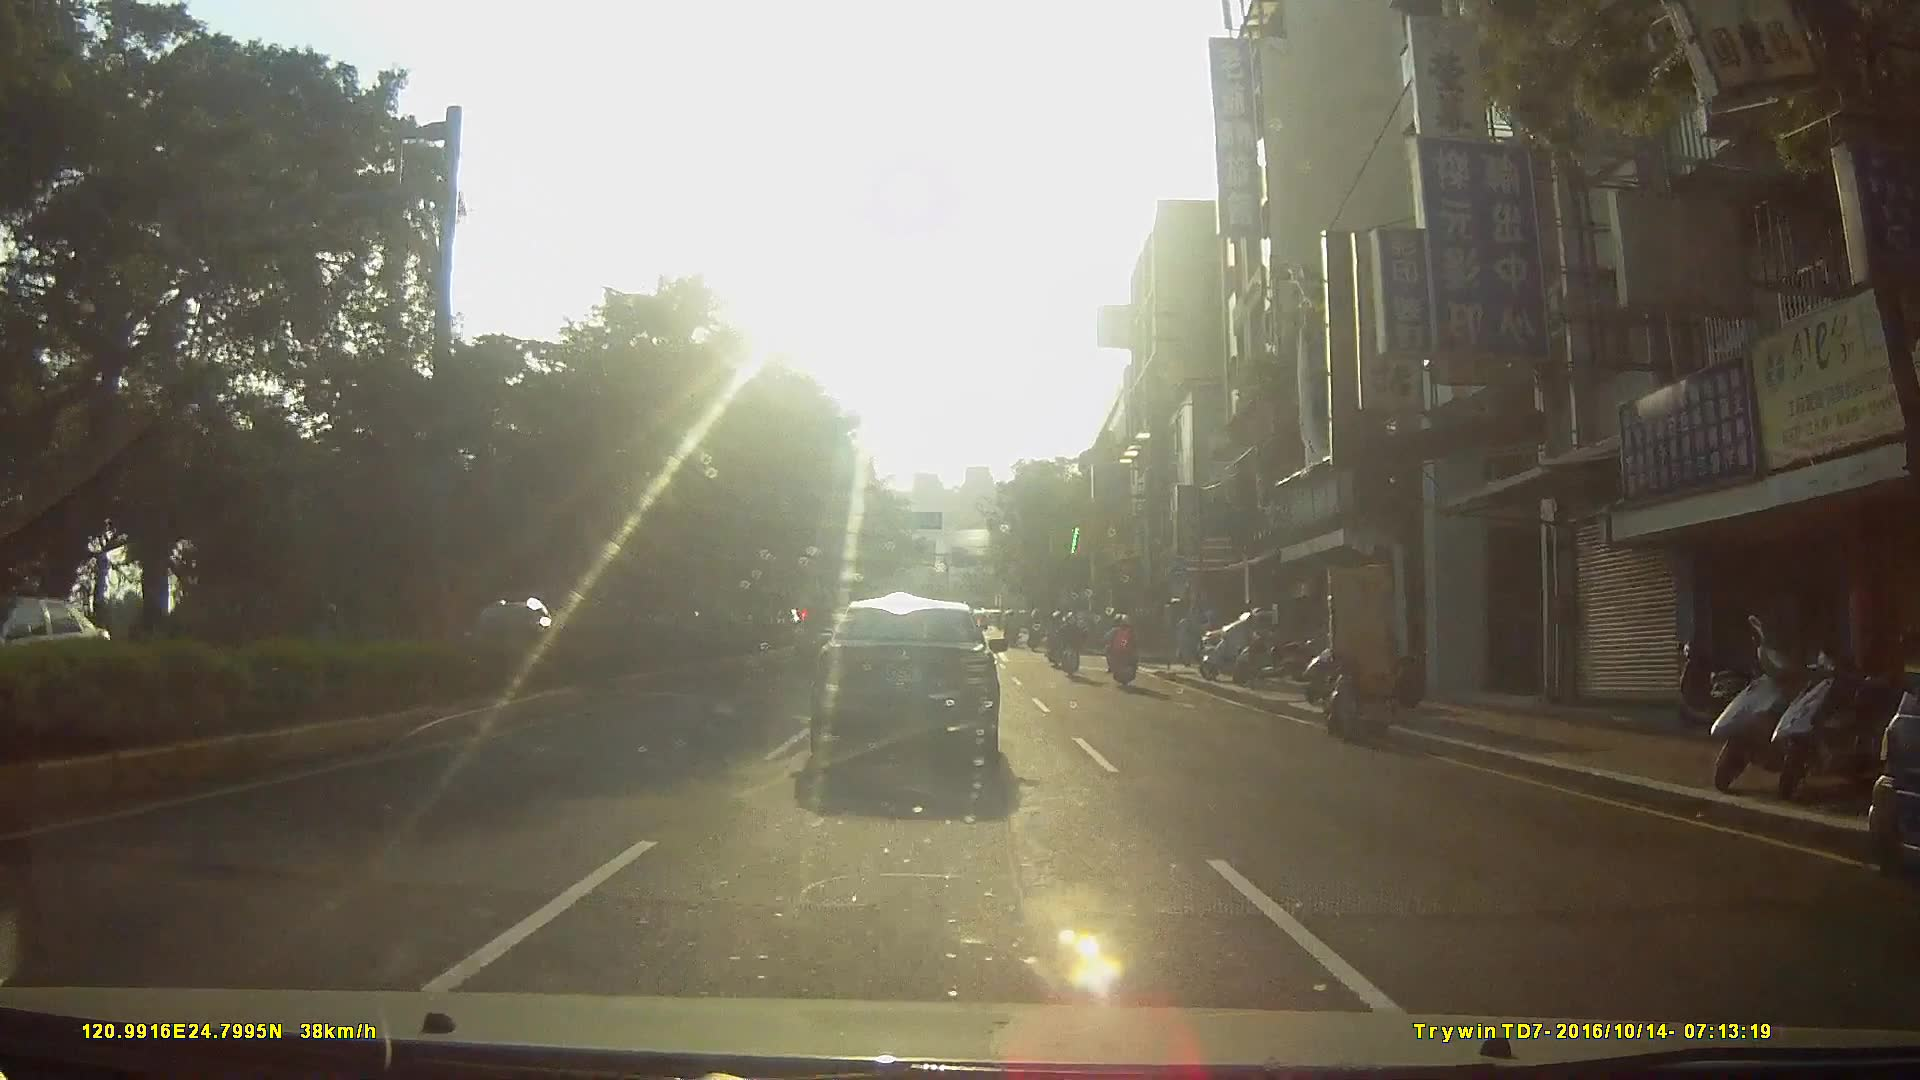rider: (1106, 617, 1140, 692), (1058, 612, 1085, 679), (1046, 612, 1069, 671)
vehicle: (807, 597, 1023, 788), (6, 597, 121, 700)
